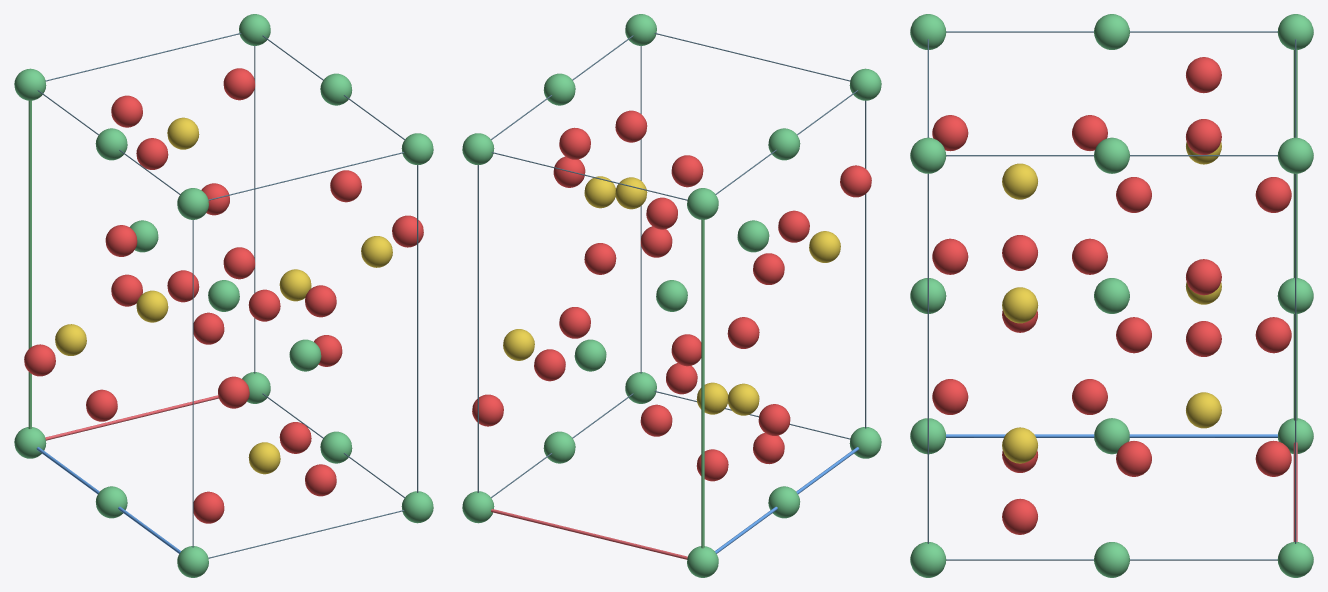
Rendered from chat-magnesium-sulfate.glb.
3 views of the same model, side by side, from view 1: azimuth 30°, elevation 25°; view 2: azimuth 150°, elevation 25°; view 3: azimuth 270°, elevation 25° (orthographic). The views are drawn at different scales.
Parts seen in each view (by area): view 1: Mg · Mg · 1 (×15), O1 · O · 1 (×12), O2 · O · 1 (×8), Ô mạng và các trục a, b, c, S · S · 1 (×6); view 2: Mg · Mg · 1 (×15), O1 · O · 1 (×12), O2 · O · 1 (×8), Ô mạng và các trục a, b, c, S · S · 1 (×6); view 3: Mg · Mg · 1 (×15), O1 · O · 1 (×12), O2 · O · 1 (×6), Ô mạng và các trục a, b, c, S · S · 1 (×4).
Part boxes in pixels (x1,y1,x2,y2): Mg · Mg · 1 (×15): (14, 14, 433, 577); O1 · O · 1 (×12): (24, 138, 423, 453); O2 · O · 1 (×8): (111, 68, 336, 523); Ô mạng và các trục a, b, c: (28, 33, 418, 558); S · S · 1 (×6): (55, 117, 392, 474); Mg · Mg · 1 (×15): (462, 14, 881, 577); O1 · O · 1 (×12): (472, 110, 871, 481); O2 · O · 1 (×8): (559, 127, 784, 464); Ô mạng và các trục a, b, c: (477, 33, 866, 559); S · S · 1 (×6): (503, 176, 840, 415); Mg · Mg · 1 (×15): (910, 14, 1313, 577); O1 · O · 1 (×12): (932, 115, 1291, 476); O2 · O · 1 (×6): (1002, 57, 1221, 534); Ô mạng và các trục a, b, c: (927, 31, 1297, 560); S · S · 1 (×4): (1002, 163, 1221, 463).
Size of the model in its own units: 5.82 by 8.53 by 7.15.
